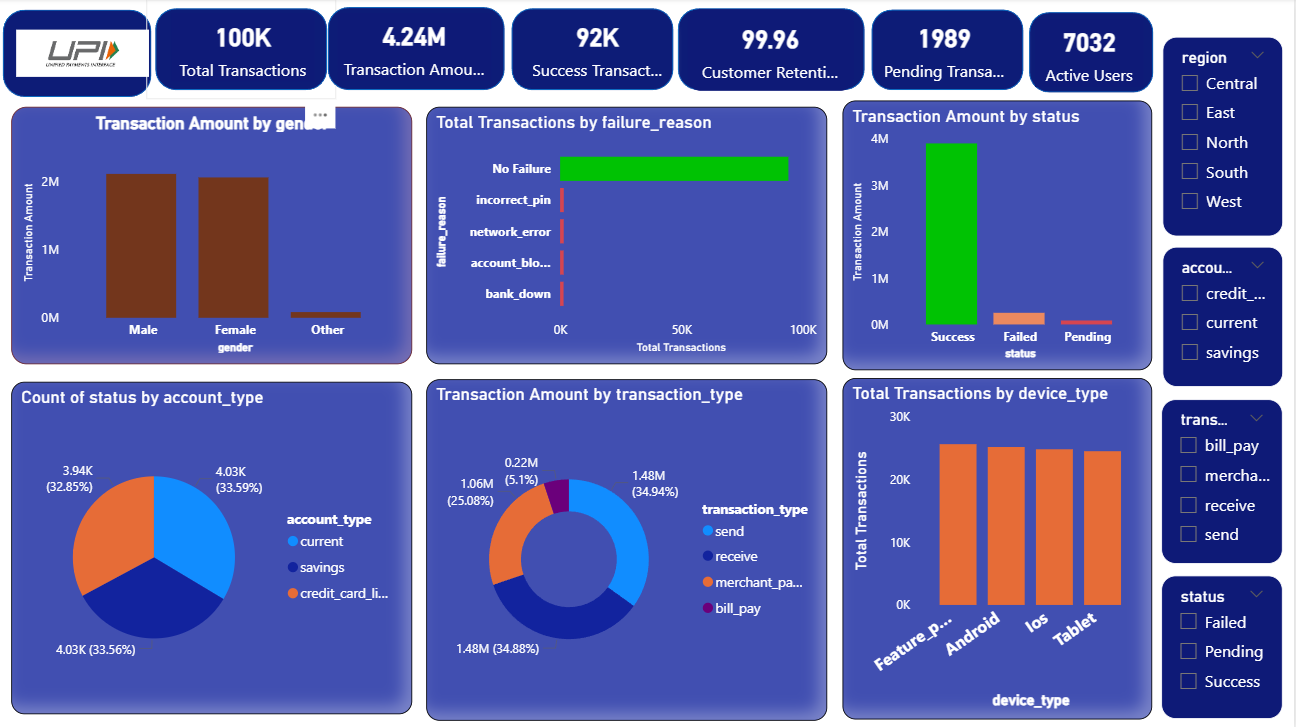

What the dashboard file says about the page in this screenshot:
{"tool":"powerbi","page":{"name":"Executive Dashboard-2","canvas":[1280,720],"ordinal":2},"visuals":[{"type":"shape","box":[1011,4.9,139.9,96.9],"z":0},{"type":"shape","box":[856.4,2.5,166.9,96.9],"z":1000},{"type":"shape","box":[666.3,1.2,201.2,98.2],"z":2000},{"type":"shape","box":[503.1,1.2,176.7,98.2],"z":3000},{"type":"clusteredColumnChart","fields":{"Category":["customer_master.gender"],"Y":["upi_transaction_history.Total Transaction Amount"]},"box":[20.9,106.7,393.9,252.8],"z":4000},{"type":"clusteredColumnChart","fields":{"Category":["upi_transaction_history.status"],"Y":["upi_transaction_history.Total Transaction Amount"]},"box":[836.8,100.6,304.3,265],"z":5000},{"type":"slicer","fields":{"Values":["customer_master.region"]},"box":[1151.2,37.5,118.8,196.2],"z":6000},{"type":"clusteredColumnChart","fields":{"Category":["upi_transaction_history.device_type"],"Y":["upi_transaction_history.Total Transactions"]},"box":[836.8,373,304.3,335],"z":7000},{"type":"slicer","fields":{"Values":["upi_transaction_history.status"]},"box":[1149.7,566.9,119,141.1],"z":8000},{"type":"slicer","fields":{"Values":["upi_transaction_history.transaction_type"]},"box":[1149.7,393.9,119,162],"z":9000},{"type":"pieChart","fields":{"Category":["upi_account_details.account_type"],"Y":["CountNonNull(upi_account_details.status)"]},"box":[20.9,376.7,393.9,326.4],"z":10000},{"type":"card","fields":{"Values":["upi_transaction_history.Success Transactions"]},"box":[526.4,14.7,139.9,67.5],"z":11000},{"type":"slicer","fields":{"Values":["upi_account_details.account_type"]},"box":[1151.2,243.8,118.8,137.5],"z":12000},{"type":"donutChart","fields":{"Category":["upi_transaction_history.transaction_type"],"Y":["upi_transaction_history.Total Transaction Amount"]},"box":[428.2,374.2,393.9,335],"z":13000},{"type":"card","fields":{"Values":["upi_transaction_history.Pending Transactions"]},"box":[872.4,11,128.8,77.3],"z":14000},{"type":"shape","box":[3.7,3,163.8,103.8],"z":15000},{"type":"shape","box":[153.4,1.2,186.5,98.2],"z":16000},{"type":"shape","box":[322.7,0,191.4,99.4],"z":17000},{"type":"card","fields":{"Values":["upi_transaction_history.Total Transactions"]},"box":[177.9,14.7,141.1,67.5],"z":18000},{"type":"card","fields":{"Values":["upi_transaction_history.Total Transaction Amount"]},"box":[341.1,14.7,150.9,66.3],"z":19000},{"type":"image","box":[21.2,10.5,140,86.2],"z":20000},{"type":"card","fields":{"Values":["upi_transaction_history.Active Users"]},"box":[1025.8,20.9,106.7,66.3],"z":21000},{"type":"card","fields":{"Values":["upi_transaction_history.Customer Retention Rate (%)"]},"box":[684.7,11,163.2,79.8],"z":22000},{"type":"barChart","fields":{"Y":["upi_transaction_history.Total Transactions"],"Category":["upi_transaction_history.failure_reason"]},"box":[428.2,106.7,393.9,252.8],"z":23000}]}

Visuals, with their boxes in screenshot pixels (x1, y1, x2, y2), scaled from the page's 1280x720 canvas onto the 1296x727 screenshot:
shape: l=1024, t=5, r=1165, b=103
shape: l=867, t=3, r=1036, b=100
shape: l=675, t=1, r=878, b=100
shape: l=509, t=1, r=688, b=100
clusteredColumnChart - customer_master.gender x upi_transaction_history.Total Transaction Amount: l=21, t=108, r=420, b=363
clusteredColumnChart - upi_transaction_history.status x upi_transaction_history.Total Transaction Amount: l=847, t=102, r=1155, b=369
slicer - customer_master.region: l=1166, t=38, r=1286, b=236
clusteredColumnChart - upi_transaction_history.device_type x upi_transaction_history.Total Transactions: l=847, t=377, r=1155, b=715
slicer - upi_transaction_history.status: l=1164, t=572, r=1285, b=715
slicer - upi_transaction_history.transaction_type: l=1164, t=398, r=1285, b=561
pieChart - upi_account_details.account_type x CountNonNull(upi_account_details.status): l=21, t=380, r=420, b=710
card - upi_transaction_history.Success Transactions: l=533, t=15, r=675, b=83
slicer - upi_account_details.account_type: l=1166, t=246, r=1286, b=385
donutChart - upi_transaction_history.transaction_type x upi_transaction_history.Total Transaction Amount: l=434, t=378, r=832, b=716
card - upi_transaction_history.Pending Transactions: l=883, t=11, r=1014, b=89
shape: l=4, t=3, r=170, b=108
shape: l=155, t=1, r=344, b=100
shape: l=327, t=0, r=521, b=100
card - upi_transaction_history.Total Transactions: l=180, t=15, r=323, b=83
card - upi_transaction_history.Total Transaction Amount: l=345, t=15, r=498, b=82
image: l=21, t=11, r=163, b=98
card - upi_transaction_history.Active Users: l=1039, t=21, r=1147, b=88
card - upi_transaction_history.Customer Retention Rate (%): l=693, t=11, r=858, b=92
barChart - upi_transaction_history.Total Transactions x upi_transaction_history.failure_reason: l=434, t=108, r=832, b=363
